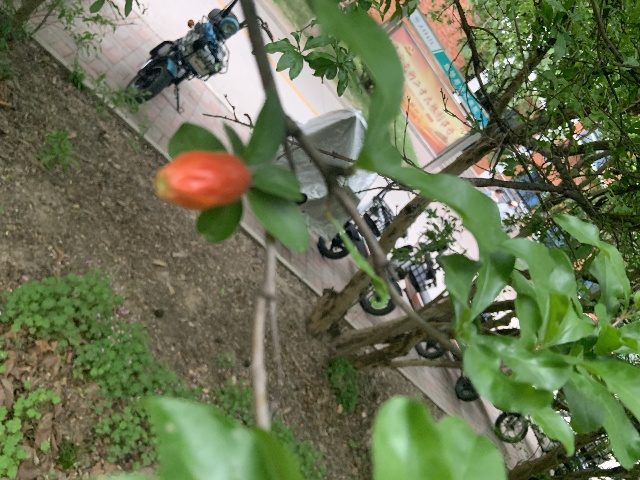bud: (156, 149, 251, 210)
